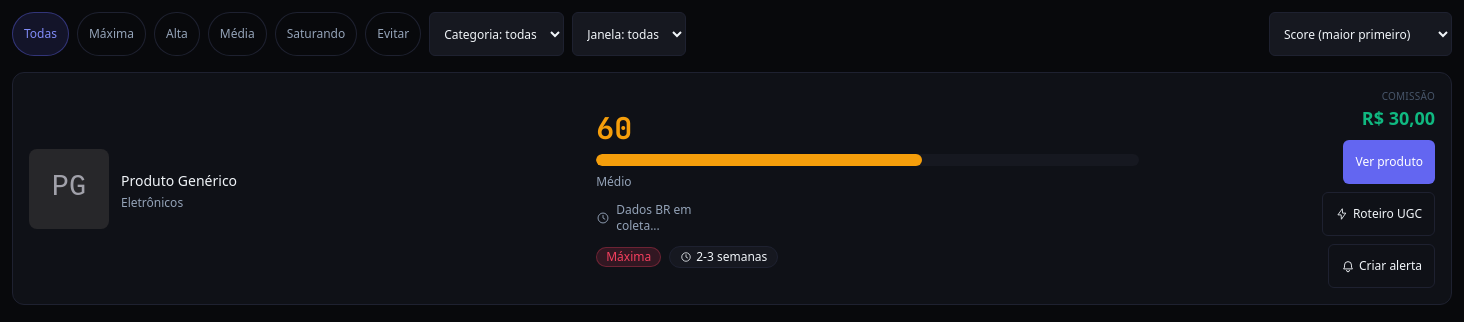
Test case: <OpportunitiesView /> — PRO › nenhum resultado após filtro: EmptyState, não tela vazia
Click the button "Evitar" at (393, 34), box [365,12,421,56]
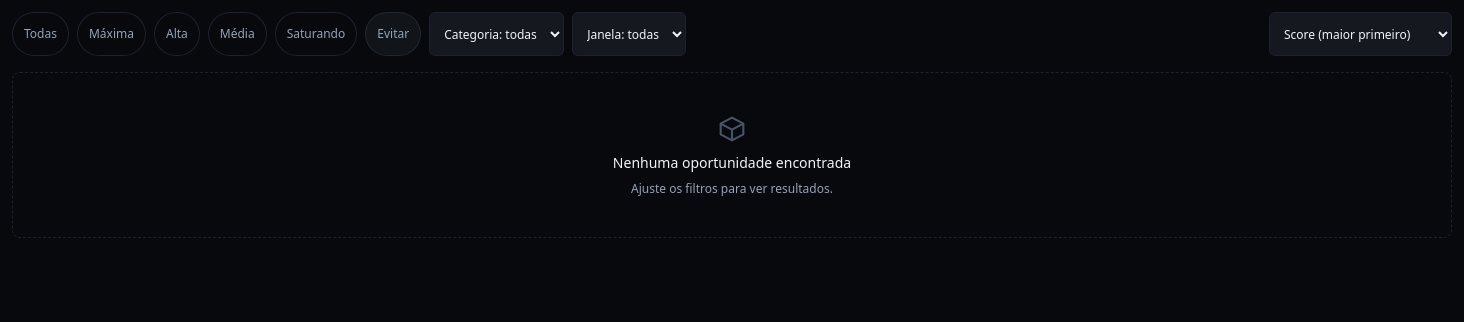
Now the text "Nenhuma oportunidade encontrada" is shown, box [613,153,851,173]
